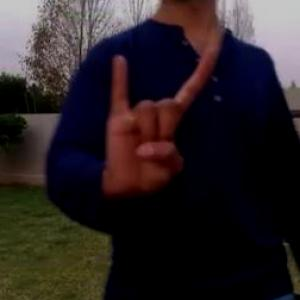takeoff-hand: (88, 19, 230, 221)
